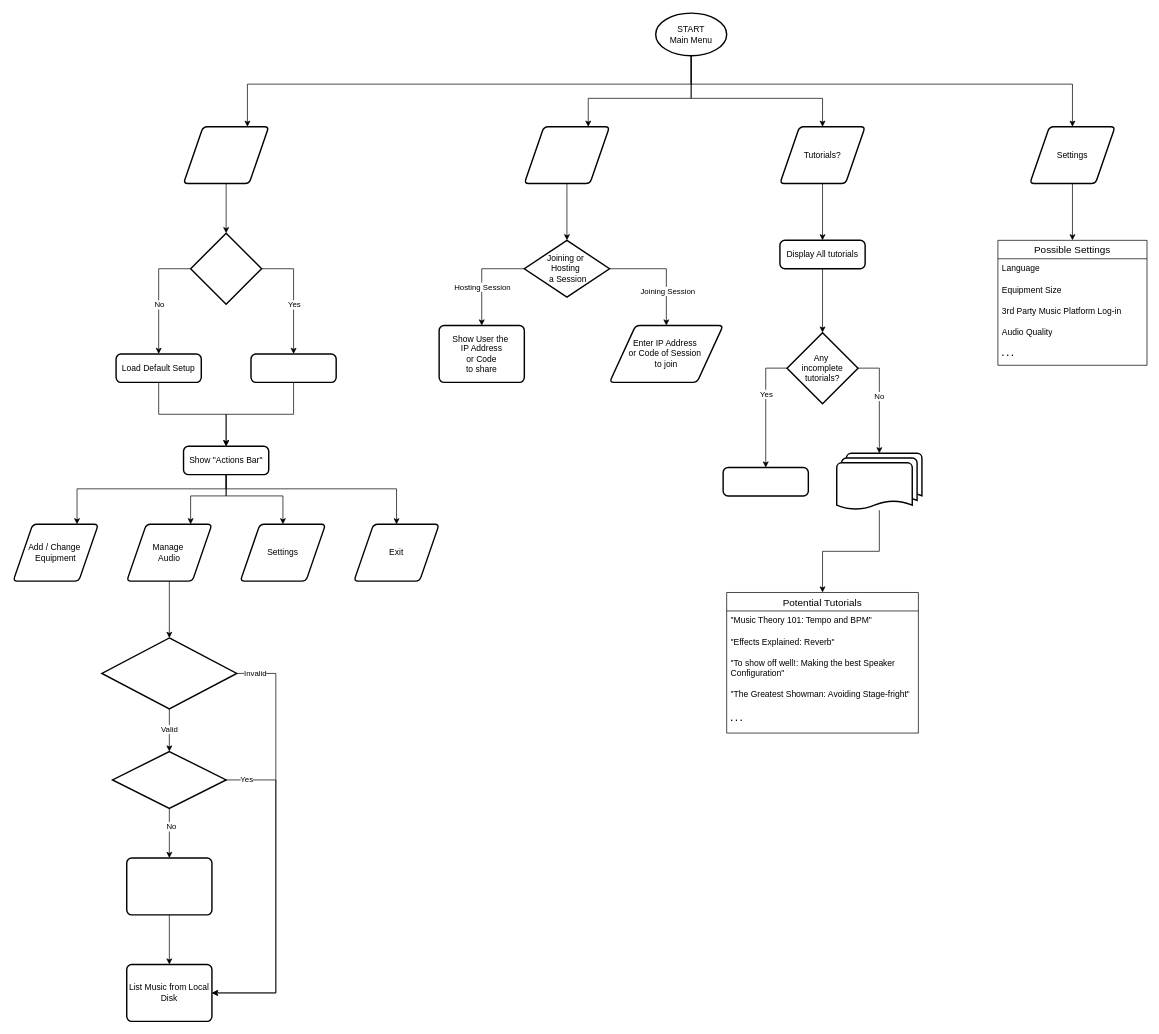
Some shapes in this 1159 by 1034 pixel diagram are drawn without their labels. Each missing label, with the box of its shape:
3rd Party Music Platform Credentials are valid: (101, 637, 237, 709)
Is first time running?: (190, 232, 262, 305)
Is in Session with another User: (111, 750, 226, 809)
List Music from 3rd party provider: (126, 857, 212, 915)
Load Last used Setup: (250, 353, 337, 383)
Prompt user to finish: (722, 466, 809, 496)
Show Recommended Tutorials: (836, 452, 922, 510)
Social Menu?: (523, 126, 610, 184)
Start Session?: (182, 126, 269, 184)
